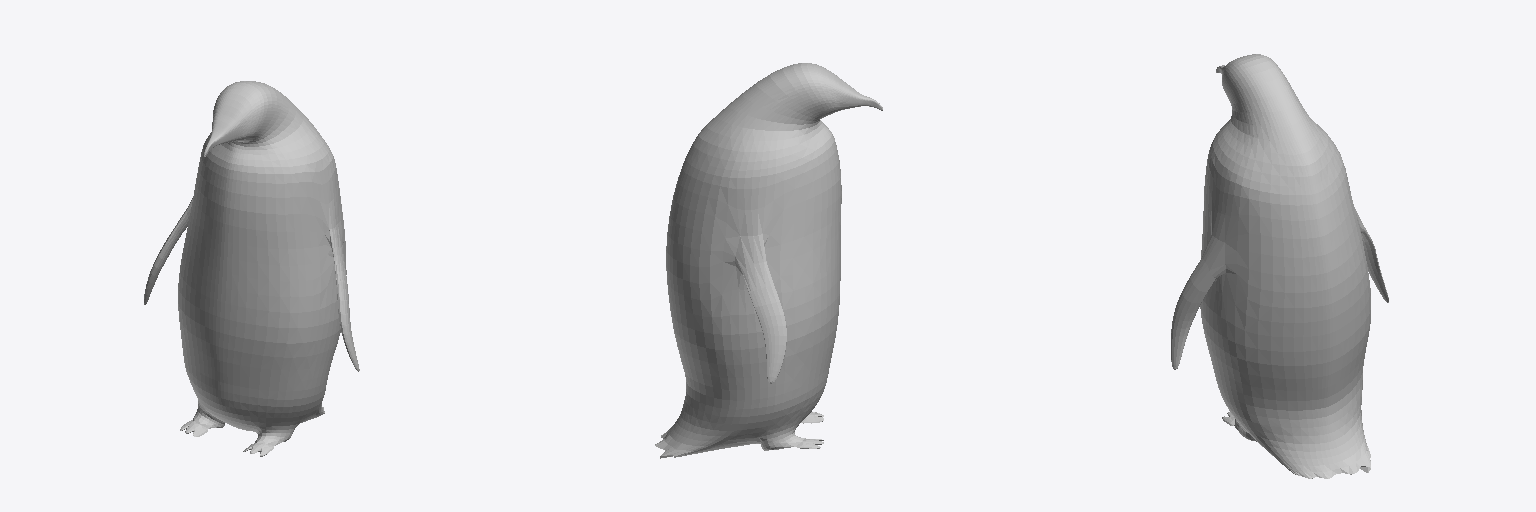
The model's file is penguin3.obj.
3 views of the same model, side by side, from view 1: azimuth 30°, elevation 25°; view 2: azimuth 150°, elevation 25°; view 3: azimuth 270°, elevation 25° (orthographic).
Parts seen in each view (by area): view 1: Penguin_Cylinder.005; view 2: Penguin_Cylinder.005; view 3: Penguin_Cylinder.005.
Boxes of the visible parts, <box> form: Penguin_Cylinder.005: <box>144,81,359,456</box>; Penguin_Cylinder.005: <box>655,63,882,458</box>; Penguin_Cylinder.005: <box>1171,54,1388,478</box>.
Size of the model in its own units: 98.07 by 208 by 111.